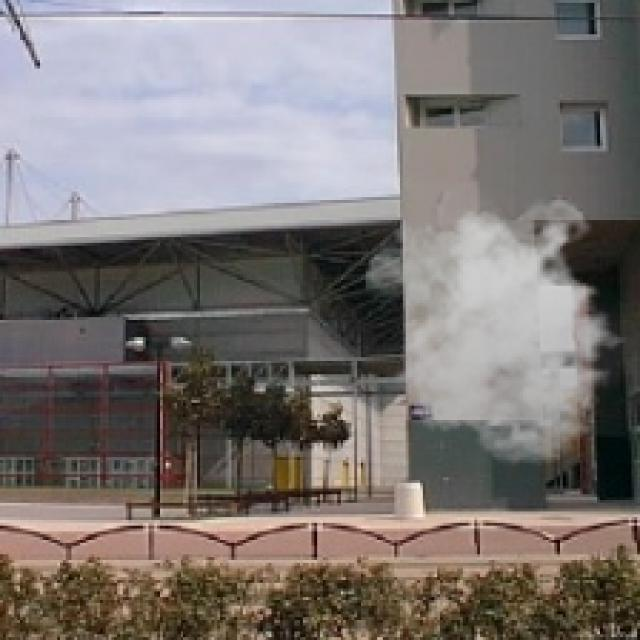smoke: (366, 191, 637, 466)
